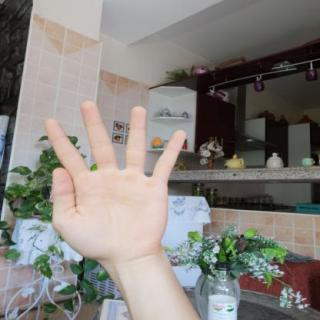SHEEN: (30, 94, 195, 271)
